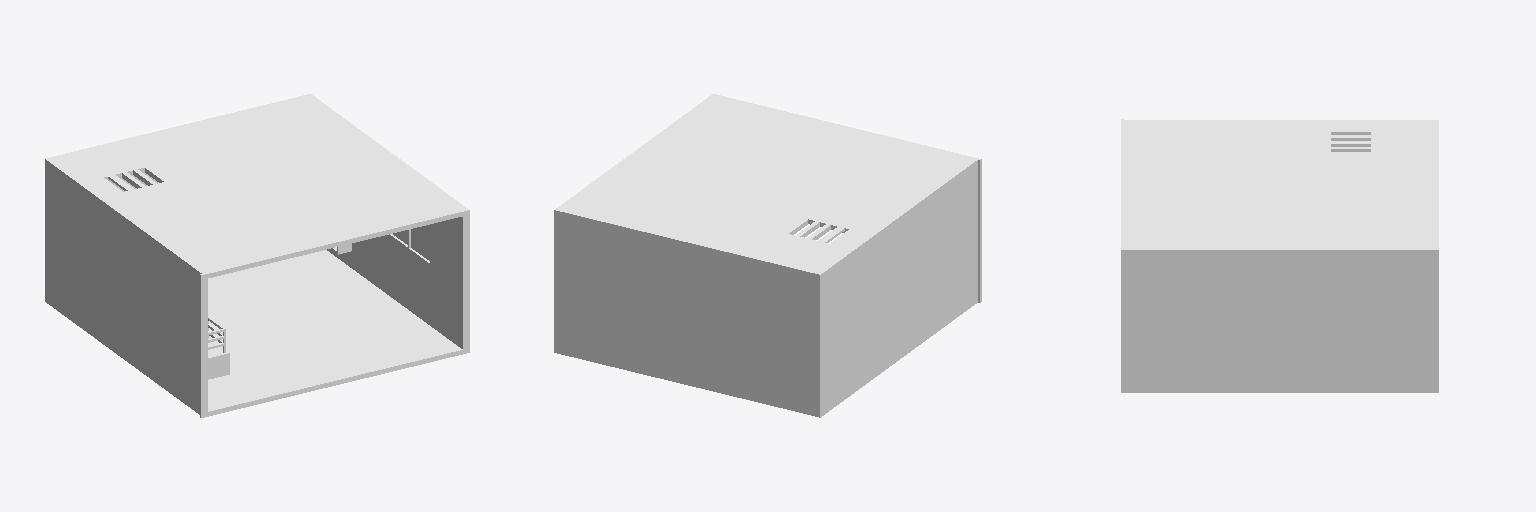
File: room.obj
The picture shows the model from 3 angles: view 1: azimuth 30°, elevation 25°; view 2: azimuth 150°, elevation 25°; view 3: azimuth 270°, elevation 25°; orthographic projection.
Parts seen in each view (by area): view 1: object 1; view 2: object 1; view 3: object 1.
Boxes of the visible parts, <box> form: object 1: <box>45,94,469,417</box>; object 1: <box>554,94,981,417</box>; object 1: <box>1121,119,1438,392</box>.
Bounding box in the file's own units: 11.8 × 6 × 12.1.